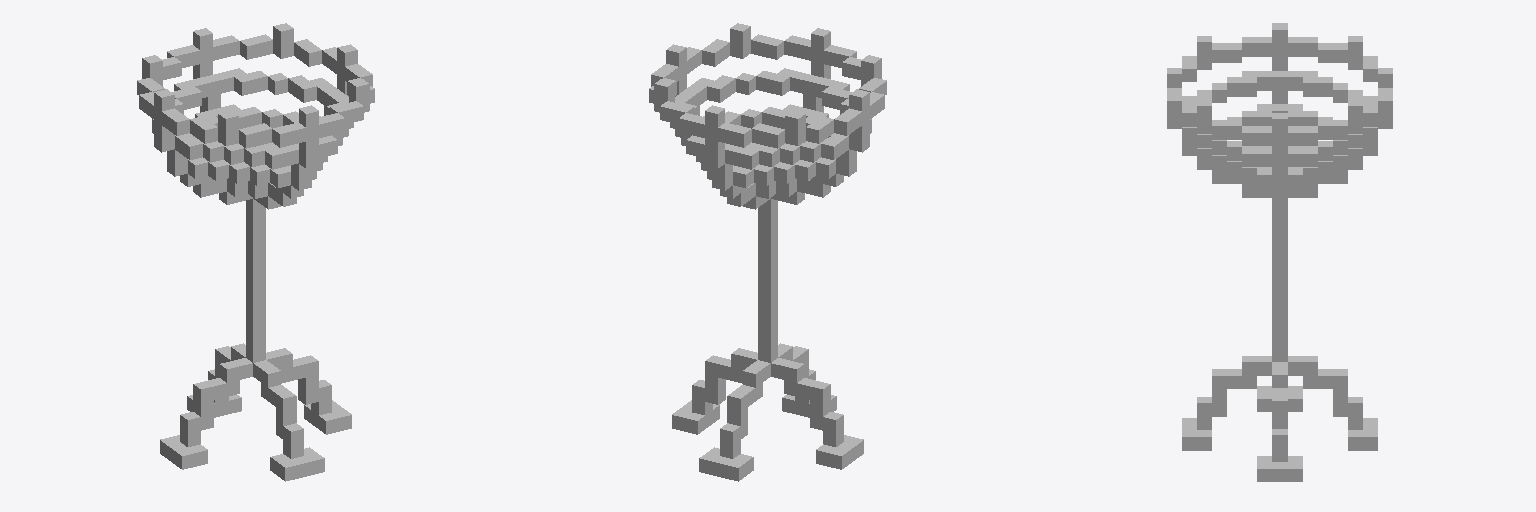
File: brazier off.obj
3 renders of one model, left to right at view 1: azimuth 30°, elevation 25°; view 2: azimuth 150°, elevation 25°; view 3: azimuth 270°, elevation 25°, orthographic.
Visible parts, largest first — view 1: brazier_off; view 2: brazier_off; view 3: brazier_off.
Boxes of the visible parts, x1=… form: brazier_off: x1=137, y1=23, x2=374, y2=481; brazier_off: x1=649, y1=23, x2=886, y2=481; brazier_off: x1=1167, y1=23, x2=1392, y2=481.
Bounding box in the file's own units: 1.5 × 2.7 × 1.5.